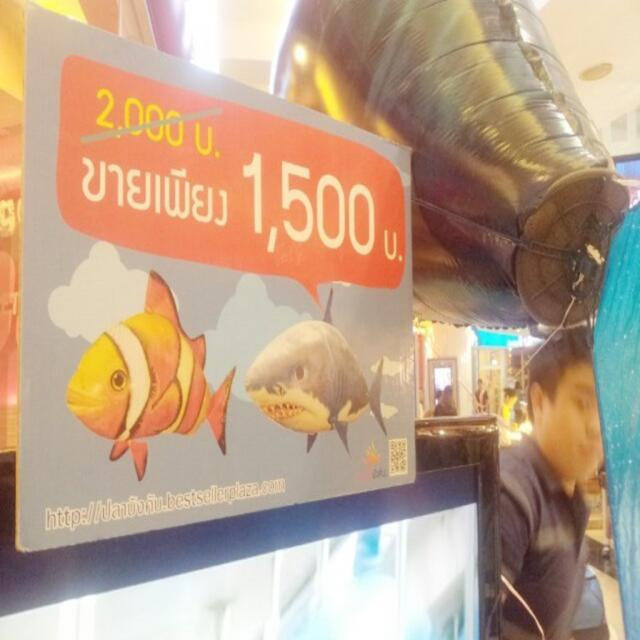Shark: (242, 286, 391, 457)
